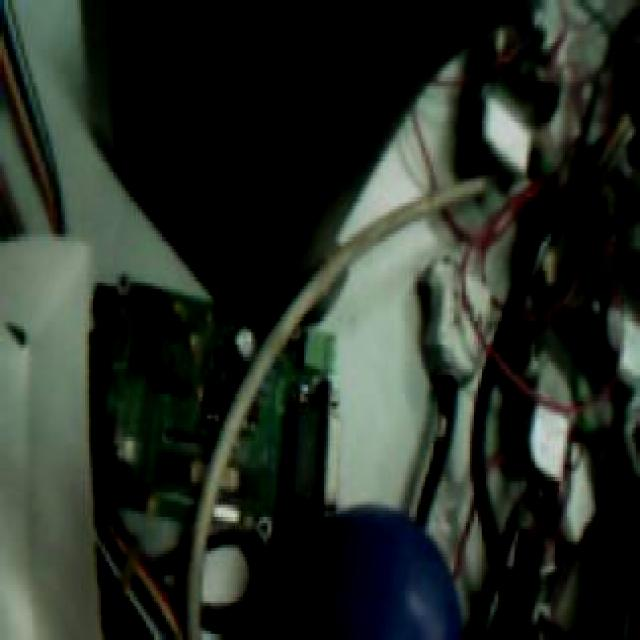BallPurple: (294, 504, 464, 640)
